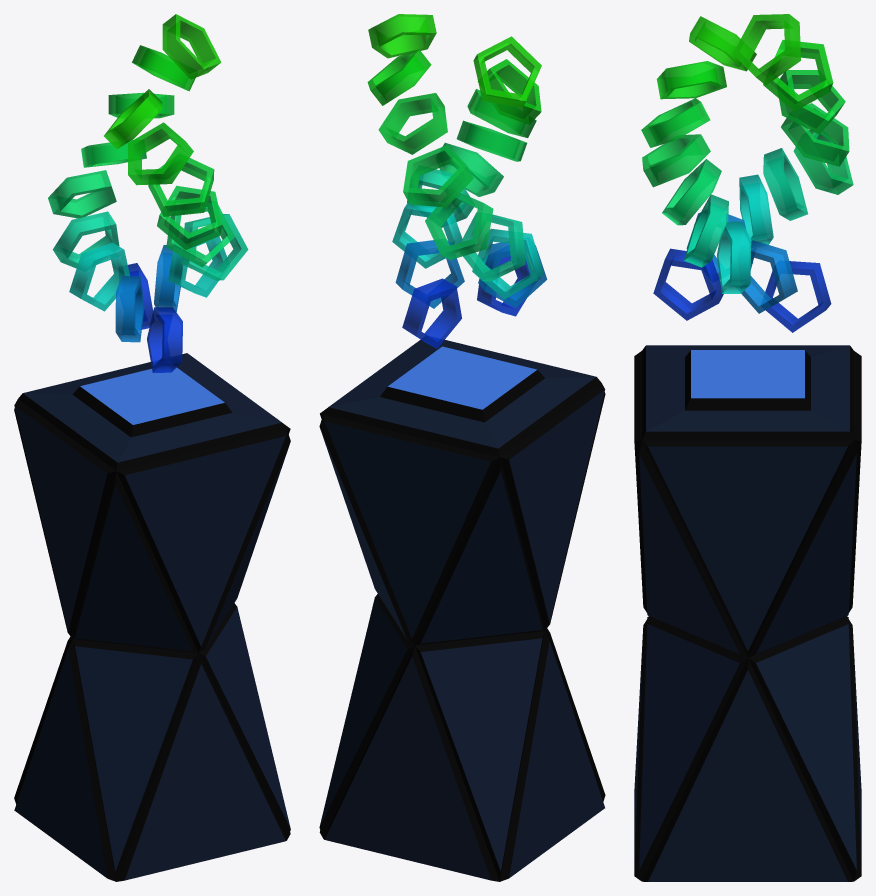
Rendered from parametric_pentagons.FBX.
3 views of the same model, side by side, from view 1: azimuth 30°, elevation 25°; view 2: azimuth 150°, elevation 25°; view 3: azimuth 270°, elevation 25° (orthographic). The views are drawn at different scales.
Parts seen in each view (by area): view 1: Pedestal002, penta014, penta008, penta010, penta018, penta017, penta013, penta006, penta016, penta009, penta007, penta004 (+7 smaller); view 2: Pedestal002, penta012, penta015, penta001, penta014, penta010, penta009, penta011, penta008, penta013, penta018, penta006 (+7 smaller); view 3: Pedestal002, penta014, penta006, penta017, penta003, penta008, penta015, penta013, penta012, penta002, penta004, penta005 (+6 smaller).
Part boxes in pixels (box(x1,y1,x2,y2)): Pedestal002: box(14, 353, 290, 881); penta014: box(162, 14, 221, 79); penta008: box(128, 122, 193, 185); penta010: box(48, 170, 116, 218); penta018: box(69, 242, 129, 311); penta017: box(147, 307, 182, 372); penta013: box(52, 211, 119, 268); penta006: box(157, 185, 222, 249); penta016: box(115, 276, 144, 342); penta009: box(104, 89, 162, 148); penta007: box(148, 158, 214, 216); penta004: box(181, 214, 248, 280); Pedestal002: box(319, 339, 605, 881); penta012: box(378, 93, 447, 154); penta015: box(403, 145, 473, 207); penta001: box(402, 278, 461, 348); penta014: box(368, 14, 436, 58); penta010: box(425, 193, 493, 259); penta009: box(473, 36, 541, 107); penta011: box(367, 49, 431, 105); penta008: box(477, 59, 541, 124); penta013: box(461, 212, 525, 281); penta018: box(472, 228, 543, 299); penta006: box(456, 120, 527, 161); Pedestal002: box(634, 345, 861, 881); penta014: box(733, 14, 800, 85); penta006: box(642, 134, 710, 187); penta017: box(653, 248, 723, 320); penta003: box(716, 221, 751, 293); penta008: box(656, 61, 726, 99); penta015: box(781, 103, 849, 166); penta013: box(763, 148, 807, 220); penta012: box(779, 70, 845, 134); penta002: box(741, 240, 797, 313); penta004: box(684, 194, 728, 267); penta005: box(662, 159, 721, 225).
Size of the model in its own units: 53.65 by 220 by 53.65.
